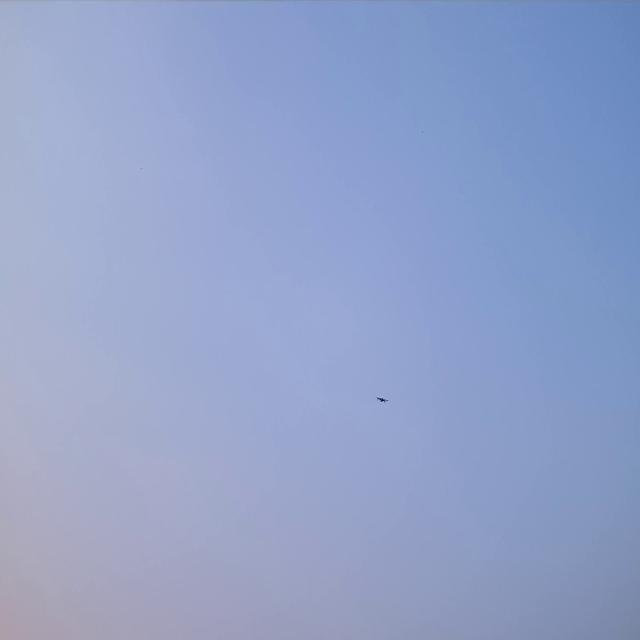UAV: (375, 392, 389, 404)
